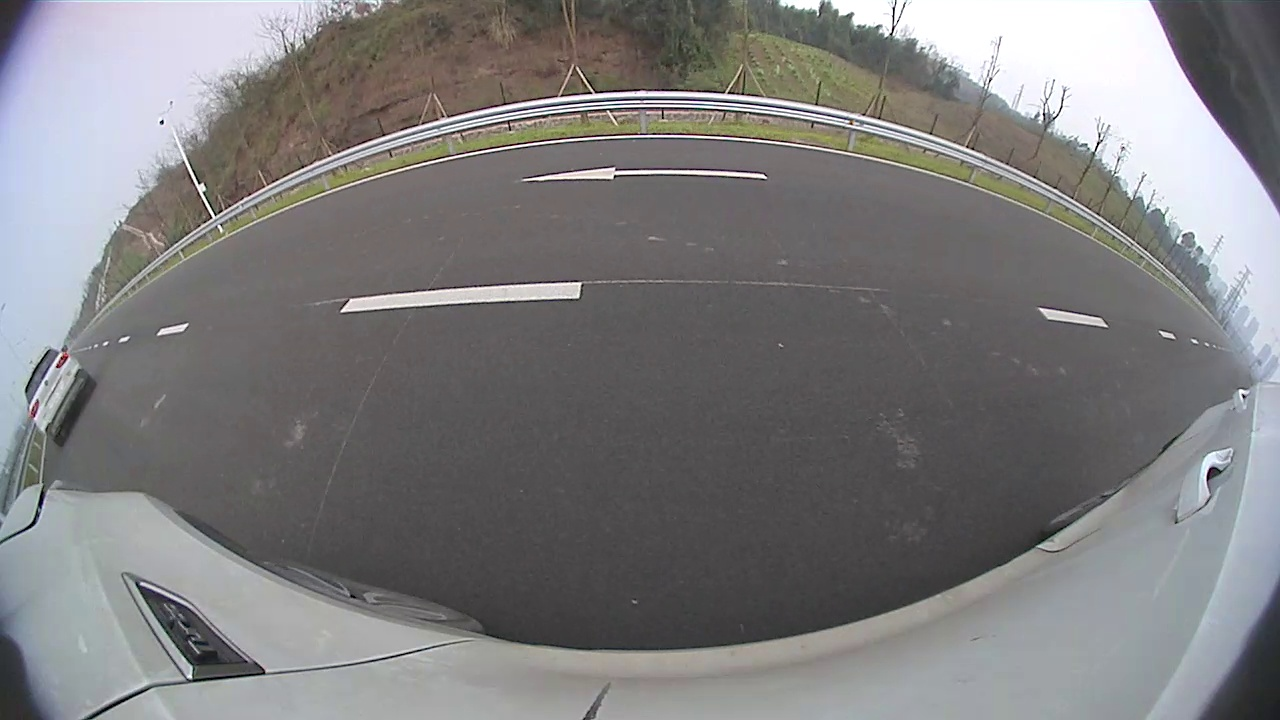car: (24, 347, 96, 447)
